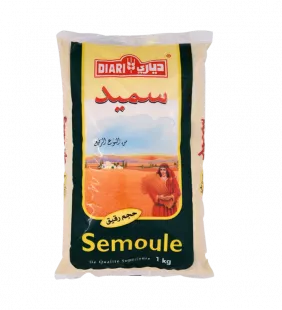DIARI: (44, 20, 221, 285)
